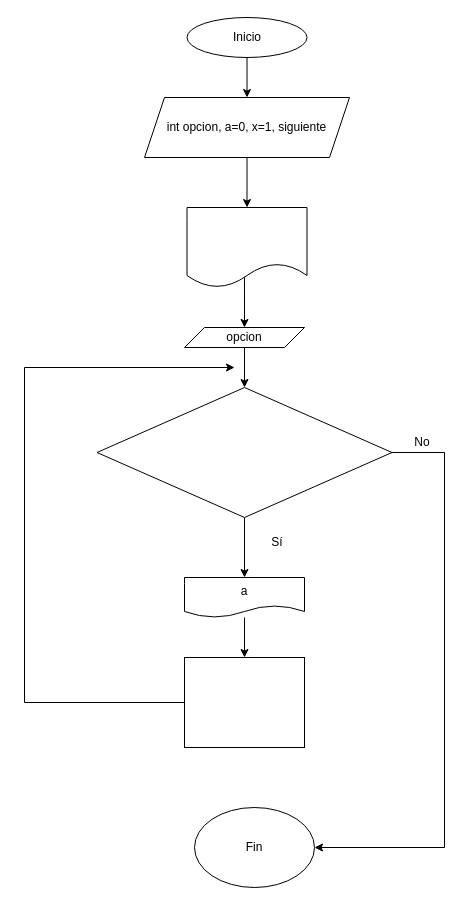
Image size: 470x905. Some labels were removed from this diagram. Each missing label, with the box of its shape:
a <= opcion: (96, 386, 392, 518)
Ingresa tu numero para darte la serie Fibonnaci: (186, 206, 307, 288)
siguiente=a+x; a=x; x=siguiente;: (184, 656, 304, 748)
